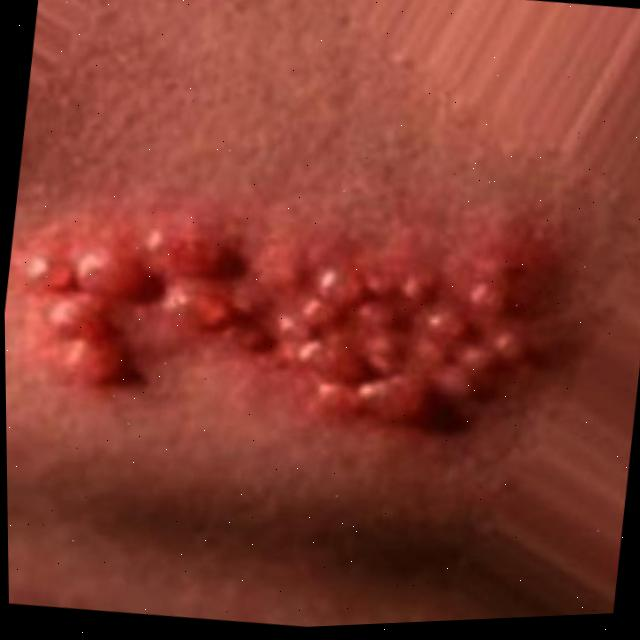Shingles: (3, 168, 570, 477)
